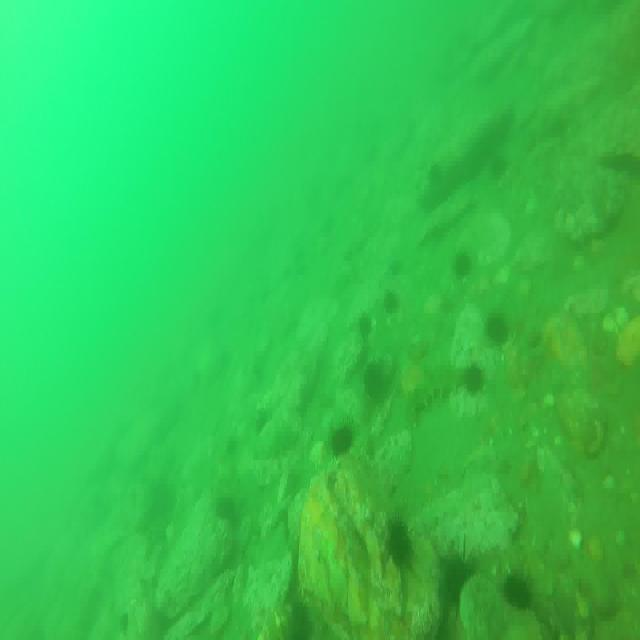echinus: (386, 516, 415, 571), (446, 551, 476, 594), (506, 570, 532, 610), (328, 427, 353, 465), (485, 309, 506, 349), (465, 358, 483, 396), (456, 248, 472, 284)
holothurian: (415, 362, 466, 412)
